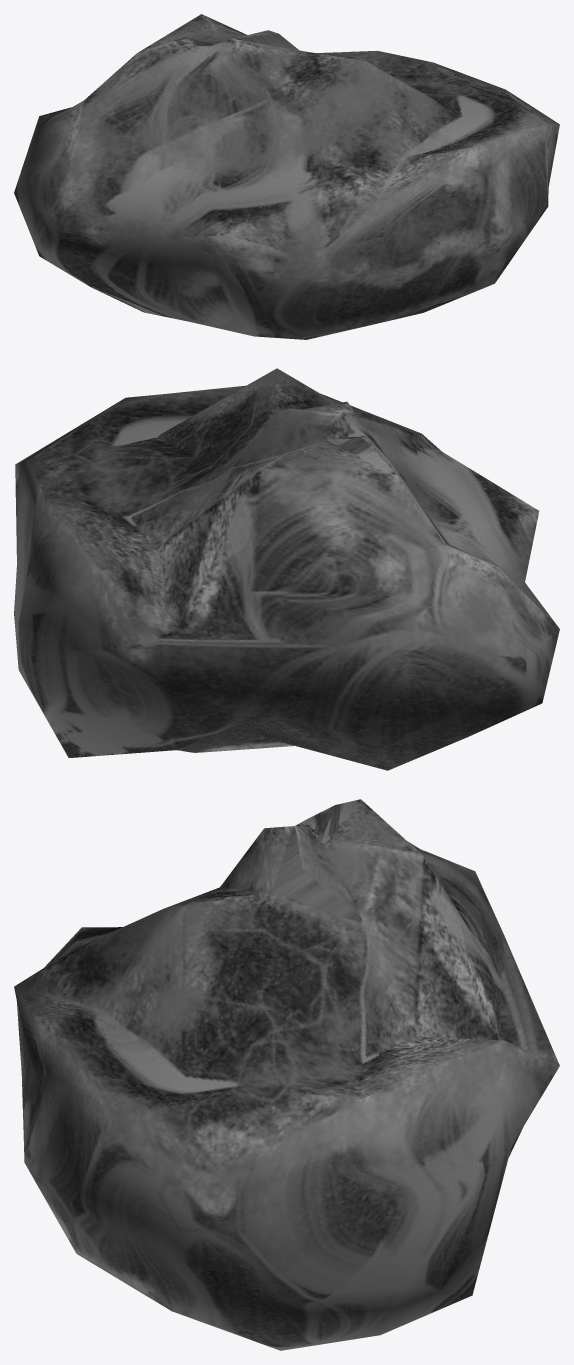
3 renders of one model, top to bottom at view 1: azimuth 30°, elevation 25°; view 2: azimuth 150°, elevation 25°; view 3: azimuth 270°, elevation 25°, orthographic. The views are drawn at different scales.
Visible parts, largest first — view 1: Boulder; view 2: Boulder; view 3: Boulder.
Boxes of the visible parts, x1,y1,x2,y2 form: Boulder: (14, 14, 559, 339); Boulder: (14, 368, 559, 770); Boulder: (14, 799, 559, 1350).
Size of the model in its own units: 146 by 85.43 by 106.
Materials: 1 (1 with a texture image).
